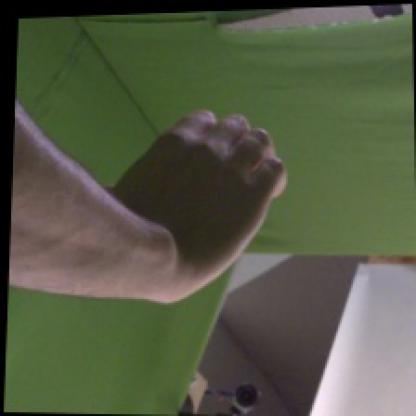Hand: (102, 106, 288, 301)
